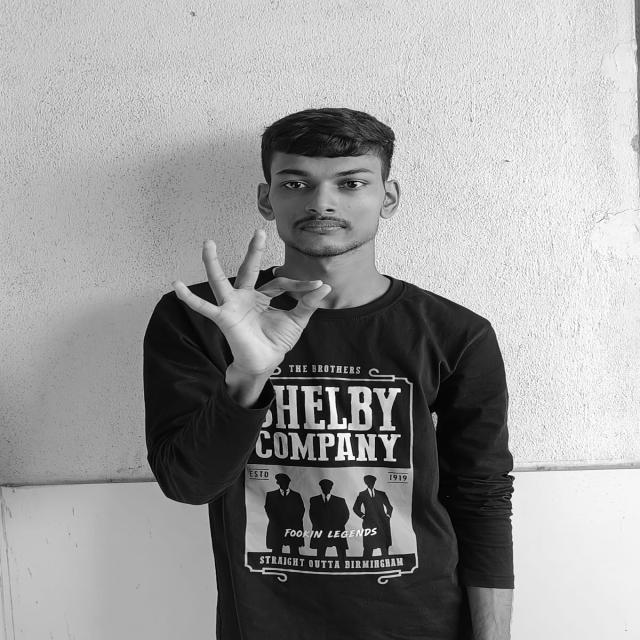Superb: (174, 227, 340, 368)
